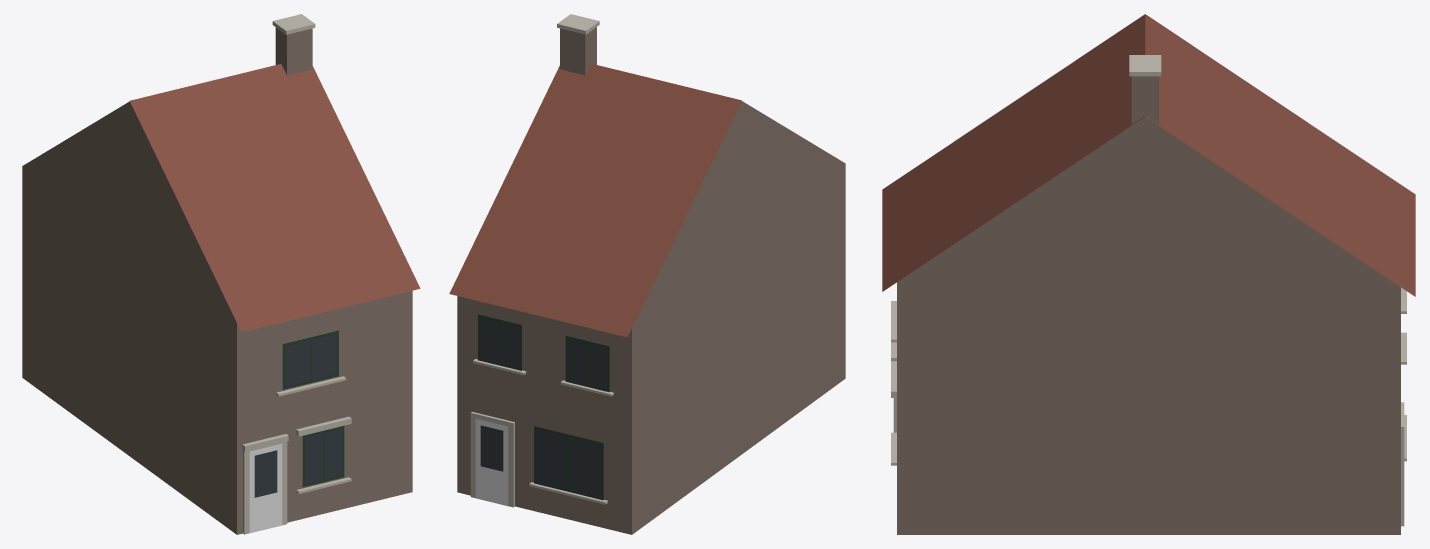
The model's file is nw-ma-green__paff__2__gable__long__solid.glb.
3 renders of one model, left to right at view 1: azimuth 30°, elevation 25°; view 2: azimuth 150°, elevation 25°; view 3: azimuth 270°, elevation 25°, orthographic. The views are drawn at different scales.
Parts seen in each view (by area): view 1: nw-ma-green__paff__2__gable__long__solid; view 2: nw-ma-green__paff__2__gable__long__solid; view 3: nw-ma-green__paff__2__gable__long__solid.
Part boxes in pixels (<box>): nw-ma-green__paff__2__gable__long__solid: <box>22,14,420,534</box>; nw-ma-green__paff__2__gable__long__solid: <box>449,14,845,534</box>; nw-ma-green__paff__2__gable__long__solid: <box>882,14,1415,534</box>.
Bounding box in the file's own units: 4.92 × 10.37 × 10.8.
